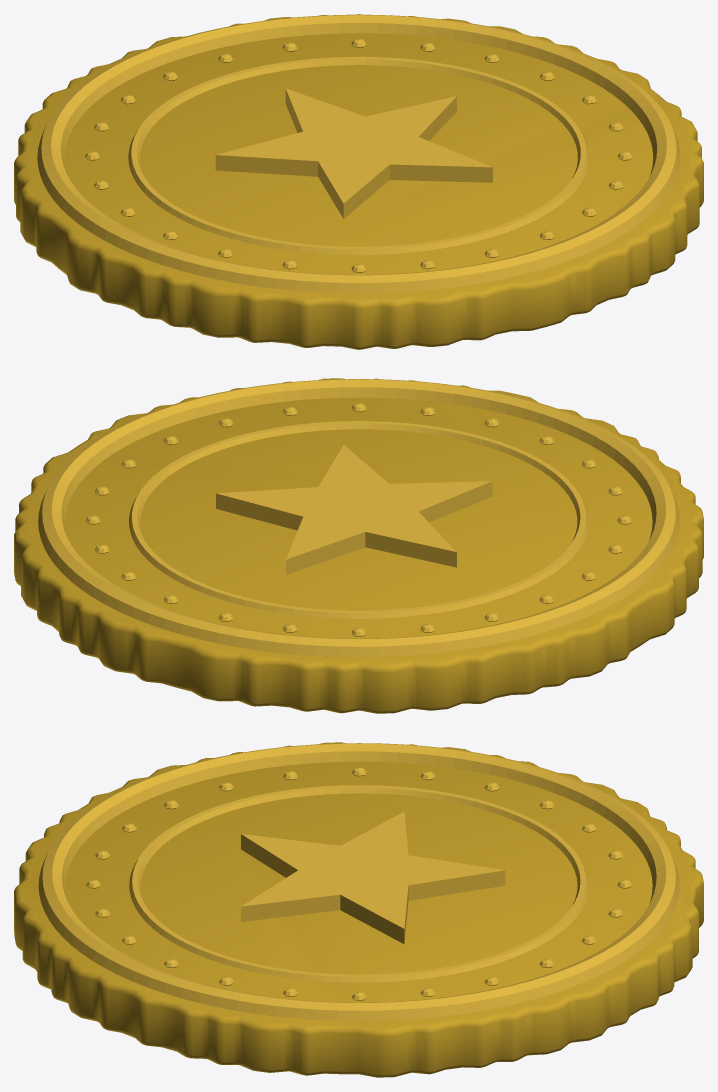
The model's file is items-coin.glb.
3 views of the same model, one above another, from view 1: azimuth 30°, elevation 25°; view 2: azimuth 150°, elevation 25°; view 3: azimuth 270°, elevation 25° (orthographic).
Visible parts, largest first — view 1: Coin__Disc, Coin__Relief; view 2: Coin__Disc, Coin__Relief; view 3: Coin__Disc, Coin__Relief.
Part boxes in pixels (left/top/right/bottom): Coin__Disc: left=14, top=14, right=703, bottom=349; Coin__Relief: left=37, top=14, right=680, bottom=293; Coin__Disc: left=14, top=378, right=703, bottom=713; Coin__Relief: left=38, top=379, right=679, bottom=657; Coin__Disc: left=14, top=742, right=703, bottom=1077; Coin__Relief: left=38, top=743, right=679, bottom=1021.
Size of the model in its own units: 14.15 by 1.45 by 14.16.
